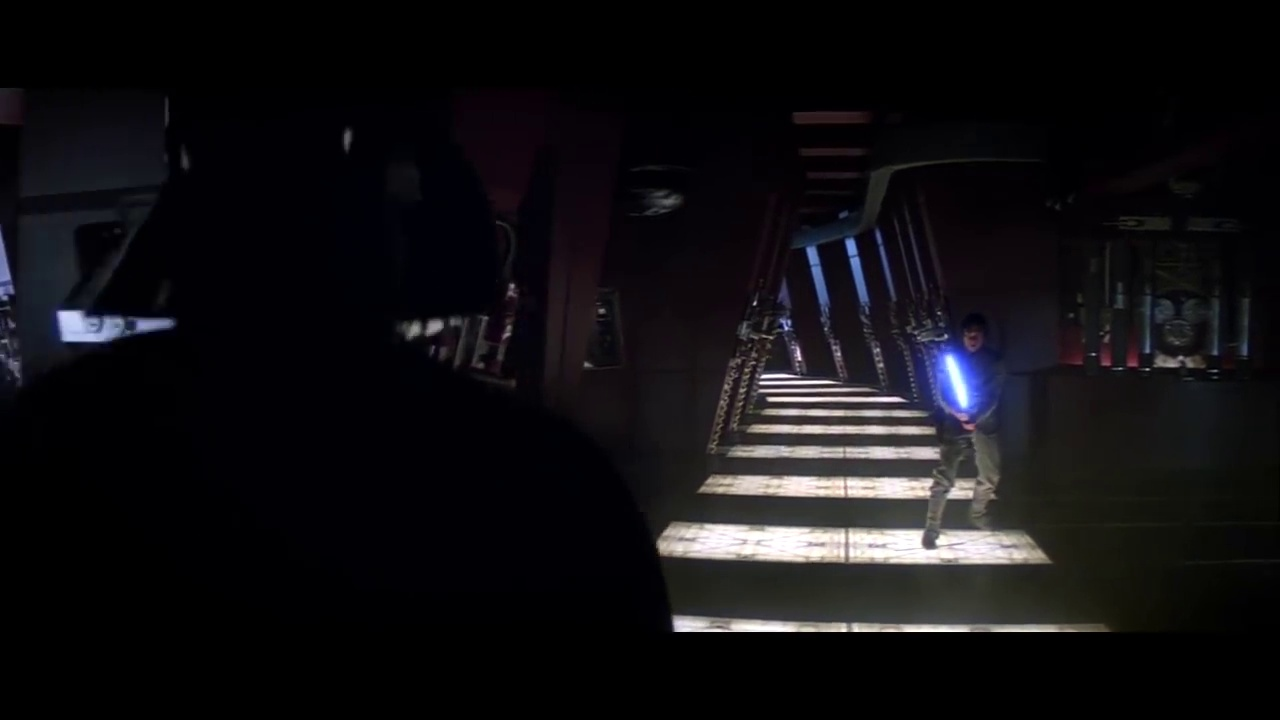lightsaber: (931, 354, 979, 432)
